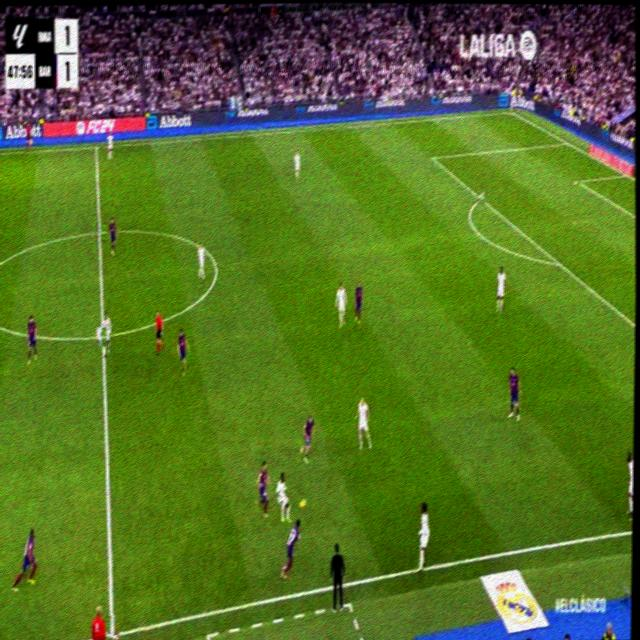bigarea_top_inner: (429, 150, 436, 164)
bottom_arc_area_intersection: (553, 254, 562, 270)
halfcircle_bottom: (96, 326, 106, 345)
halfcircle_top: (93, 221, 105, 243)
midline_bottom_intersection: (105, 614, 118, 640)
midline_top_intersection: (93, 141, 99, 153)
smallarea_top_inner: (574, 175, 580, 186)
top_arc_area_intersection: (477, 190, 484, 204)
